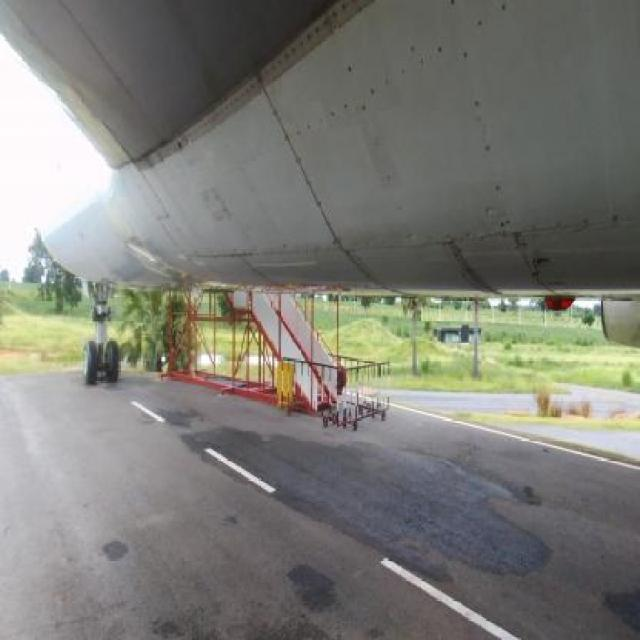Missing-Rivet: (443, 35, 514, 223), (288, 98, 379, 139), (371, 43, 463, 82), (527, 212, 630, 246)
